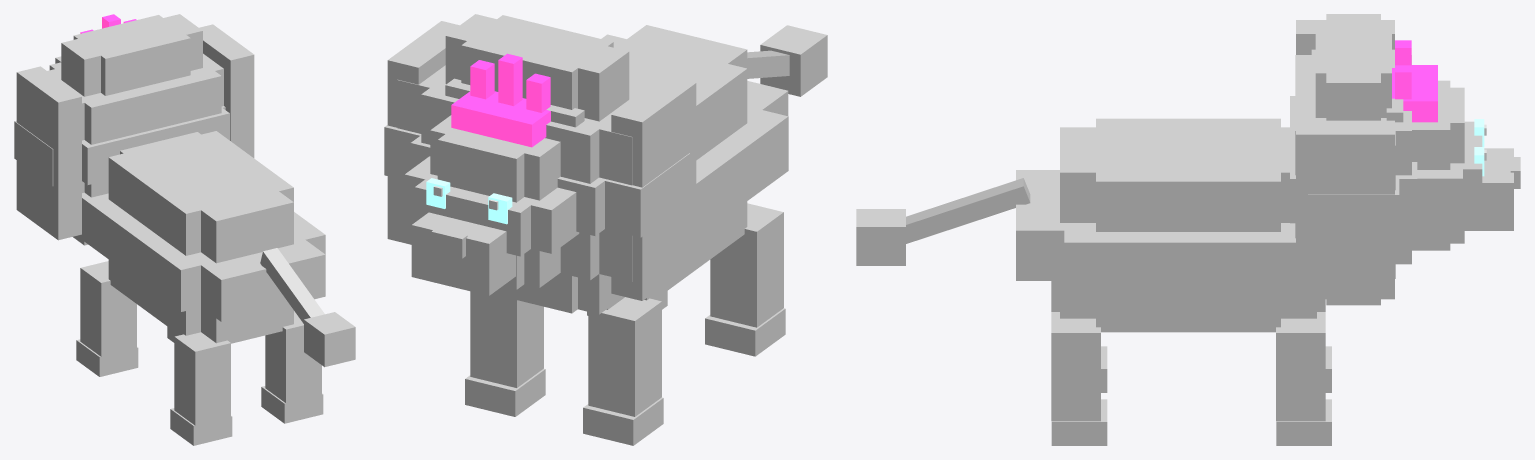
File: MechaLion.fbx
The picture shows the model from 3 angles, left to right: view 1: azimuth 30°, elevation 25°; view 2: azimuth 150°, elevation 25°; view 3: azimuth 270°, elevation 25°; orthographic projection. The views are drawn at different scales.
Visible parts, largest first — view 1: Mecha Lion_body_4, Mecha Lion_body_5, Mecha Lion_head_25, Mecha Lion_body_2, Mecha Lion_head_21, Mecha Lion_body_3, Mecha Lion_head_23, Mecha Lion_legBL_10, Mecha Lion_head_22, Mecha Lion_legFL_6, Mecha Lion_head_24, Mecha Lion_legBR_12 (+10 smaller); view 2: Mecha Lion_head_25, Mecha Lion_legFL_6, Mecha Lion_head_22, Mecha Lion_body_2, Mecha Lion_legBL_10, Mecha Lion_body_4, Mecha Lion_legFR_8, Mecha Lion_head_23, Mecha Lion_head_32, Mecha Lion_head_18, Mecha Lion_head_31, Mecha Lion_head_24 (+27 smaller); view 3: Mecha Lion_body_4, Mecha Lion_body_2, Mecha Lion_head_24, Mecha Lion_body_5, Mecha Lion_body_0, Mecha Lion_head_22, Mecha Lion_legBR_12, Mecha Lion_legFR_8, Mecha Lion_body_3, Mecha Lion_head_18, Mecha Lion_tail_44, Mecha Lion_head_32 (+15 smaller).
Part boxes in pixels (box(x1,y1,x2,y2)): Mecha Lion_body_4: box(108, 131, 293, 255); Mecha Lion_body_5: box(120, 132, 293, 263); Mecha Lion_head_25: box(16, 66, 81, 240); Mecha Lion_body_2: box(77, 192, 325, 311); Mecha Lion_head_21: box(47, 62, 221, 144); Mecha Lion_body_3: box(104, 193, 325, 321); Mecha Lion_head_23: box(73, 15, 190, 95); Mecha Lion_legBL_10: box(174, 332, 230, 425); Mecha Lion_head_22: box(61, 14, 202, 96); Mecha Lion_legFL_6: box(80, 261, 136, 356); Mecha Lion_head_24: box(199, 24, 254, 157); Mecha Lion_legBR_12: box(265, 311, 321, 403); Mecha Lion_head_25: box(611, 75, 696, 300); Mecha Lion_legFL_6: box(588, 297, 661, 416); Mecha Lion_head_22: box(445, 14, 629, 121); Mecha Lion_body_2: box(696, 107, 788, 237); Mecha Lion_legBL_10: box(710, 203, 783, 327); Mecha Lion_body_4: box(601, 34, 747, 160); Mecha Lion_legFR_8: box(470, 291, 543, 387); Mecha Lion_head_23: box(461, 15, 613, 109); Mecha Lion_head_32: box(411, 212, 515, 295); Mecha Lion_head_18: box(384, 125, 690, 237); Mecha Lion_head_31: box(437, 128, 534, 202); Mecha Lion_head_24: box(387, 21, 459, 244); Mecha Lion_body_4: box(1096, 118, 1280, 231); Mecha Lion_body_2: box(1064, 223, 1295, 292); Mecha Lion_head_24: box(1296, 120, 1394, 299); Mecha Lion_body_5: box(1060, 127, 1289, 222); Mecha Lion_body_0: box(1096, 293, 1280, 332); Mecha Lion_head_22: box(1326, 14, 1380, 120); Mecha Lion_legBR_12: box(1051, 312, 1100, 421); Mecha Lion_legFR_8: box(1276, 312, 1325, 421); Mecha Lion_body_3: box(1016, 170, 1295, 280); Mecha Lion_head_18: box(1308, 175, 1399, 239); Mecha Lion_tail_44: box(906, 178, 1030, 243); Mecha Lion_head_32: box(1464, 148, 1513, 230).
Size of the model in its own units: 165 by 243 by 402.
